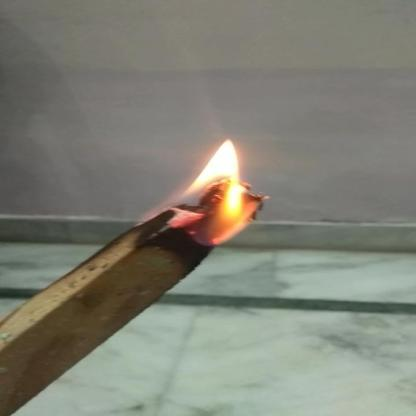fire: (147, 130, 290, 244)
